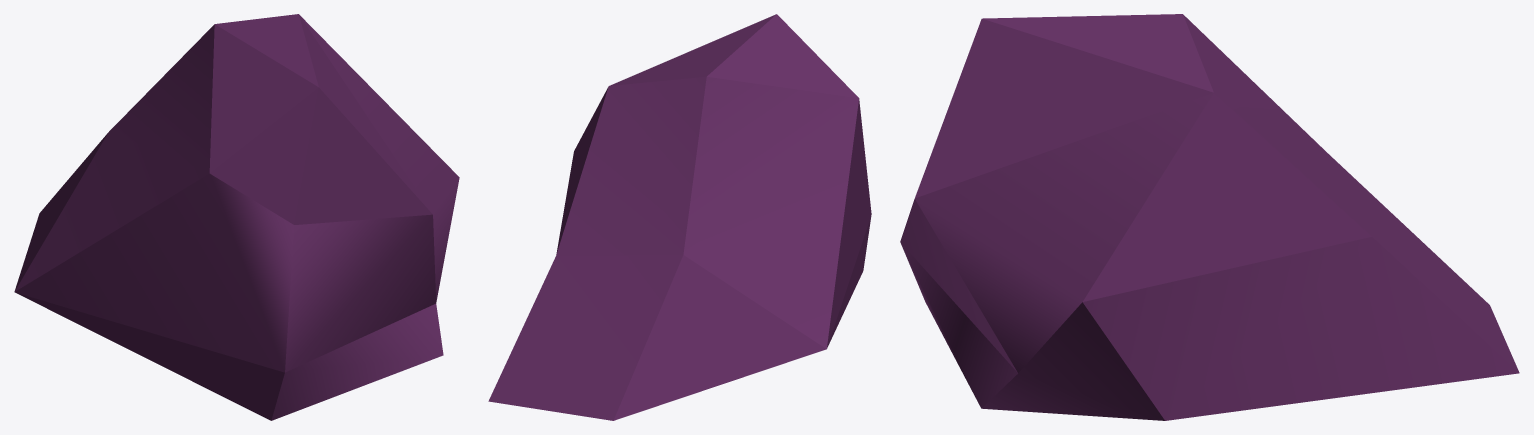
The model's file is Rock_Mesh.fbx.
3 renders of one model, left to right at view 1: azimuth 30°, elevation 25°; view 2: azimuth 150°, elevation 25°; view 3: azimuth 270°, elevation 25°, orthographic. The views are drawn at different scales.
Visible parts, largest first — view 1: p3_grande1; view 2: p3_grande1; view 3: p3_grande1.
Boxes of the visible parts, <box> form: p3_grande1: <box>14,14,459,420</box>; p3_grande1: <box>488,14,871,420</box>; p3_grande1: <box>900,14,1519,420</box>.
Size of the model in its own units: 1.56 by 1.37 by 2.1.
